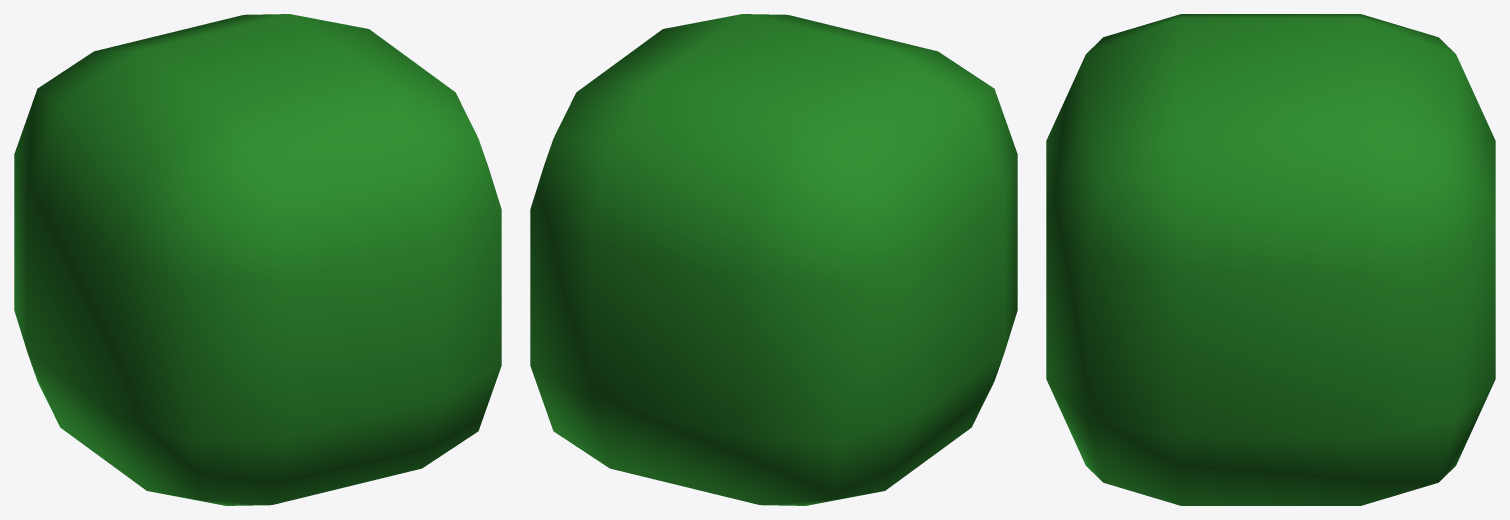
The model's file is Hedge.dae.
3 renders of one model, left to right at view 1: azimuth 30°, elevation 25°; view 2: azimuth 150°, elevation 25°; view 3: azimuth 270°, elevation 25°, orthographic. The views are drawn at different scales.
Visible parts, largest first — view 1: Cube; view 2: Cube; view 3: Cube.
Boxes of the visible parts, box(x1,y1,x2,y2) form: Cube: box(14, 14, 501, 505); Cube: box(530, 14, 1017, 505); Cube: box(1046, 14, 1495, 505).
Size of the model in its own units: 2 by 2 by 2.
